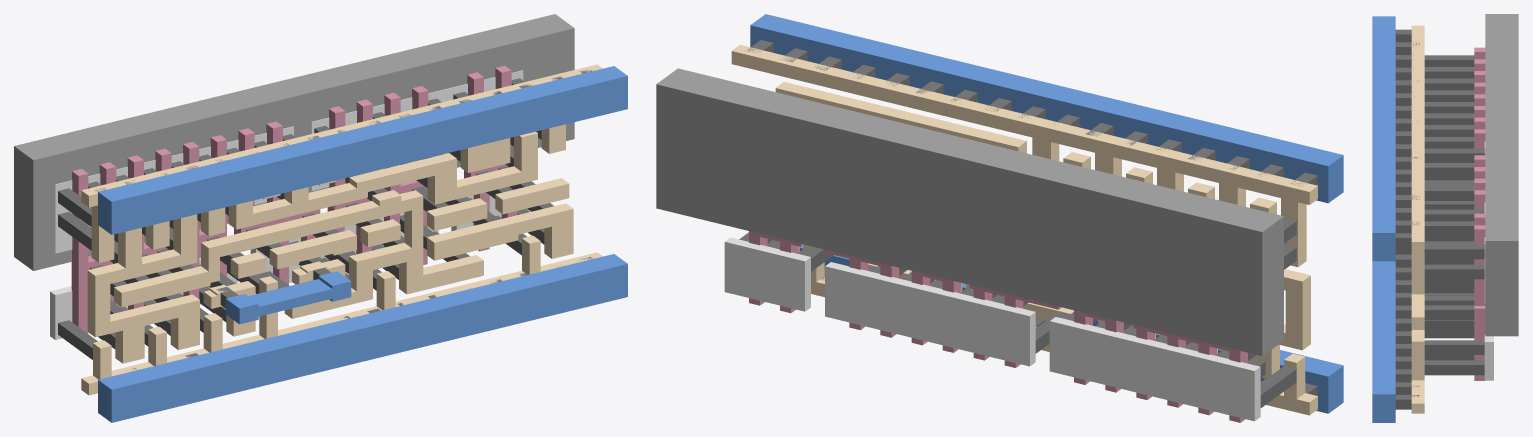
Rendered from sky130_fd_sc_hd__a221o_4.gds.gltf.
3 views of the same model, side by side, from view 1: azimuth 30°, elevation 25°; view 2: azimuth 150°, elevation 25°; view 3: azimuth 270°, elevation 25° (orthographic). The views are drawn at different scales.
Parts seen in each view (by area): view 1: sky130_fd_sc_hd__a221o_4_li1, sky130_fd_sc_hd__a221o_4_met1, sky130_fd_sc_hd__a221o_4_nwell, sky130_fd_sc_hd__a221o_4_poly, sky130_fd_sc_hd__a221o_4_licon, sky130_fd_sc_hd__a221o_4_diff, sky130_fd_sc_hd__a221o_4_mcon; view 2: sky130_fd_sc_hd__a221o_4_nwell, sky130_fd_sc_hd__a221o_4_diff, sky130_fd_sc_hd__a221o_4_li1, sky130_fd_sc_hd__a221o_4_met1, sky130_fd_sc_hd__a221o_4_poly, sky130_fd_sc_hd__a221o_4_mcon, sky130_fd_sc_hd__a221o_4_licon; view 3: sky130_fd_sc_hd__a221o_4_licon, sky130_fd_sc_hd__a221o_4_nwell, sky130_fd_sc_hd__a221o_4_met1, sky130_fd_sc_hd__a221o_4_mcon, sky130_fd_sc_hd__a221o_4_li1, sky130_fd_sc_hd__a221o_4_poly, sky130_fd_sc_hd__a221o_4_diff.
Boxes of the visible parts, x1=… form: sky130_fd_sc_hd__a221o_4_li1: x1=81, y1=64, x2=602, y2=395; sky130_fd_sc_hd__a221o_4_met1: x1=98, y1=66, x2=627, y2=422; sky130_fd_sc_hd__a221o_4_nwell: x1=14, y1=14, x2=574, y2=270; sky130_fd_sc_hd__a221o_4_poly: x1=71, y1=65, x2=517, y2=333; sky130_fd_sc_hd__a221o_4_licon: x1=58, y1=78, x2=553, y2=359; sky130_fd_sc_hd__a221o_4_diff: x1=50, y1=70, x2=528, y2=339; sky130_fd_sc_hd__a221o_4_mcon: x1=95, y1=70, x2=592, y2=369; sky130_fd_sc_hd__a221o_4_nwell: x1=656, y1=68, x2=1283, y2=356; sky130_fd_sc_hd__a221o_4_diff: x1=724, y1=237, x2=1260, y2=421; sky130_fd_sc_hd__a221o_4_li1: x1=731, y1=44, x2=1317, y2=415; sky130_fd_sc_hd__a221o_4_met1: x1=750, y1=14, x2=1343, y2=413; sky130_fd_sc_hd__a221o_4_poly: x1=749, y1=231, x2=1247, y2=422; sky130_fd_sc_hd__a221o_4_mcon: x1=746, y1=40, x2=1317, y2=395; sky130_fd_sc_hd__a221o_4_licon: x1=739, y1=218, x2=1296, y2=407; sky130_fd_sc_hd__a221o_4_licon: x1=1424, y1=55, x2=1484, y2=375; sky130_fd_sc_hd__a221o_4_nwell: x1=1485, y1=14, x2=1518, y2=336; sky130_fd_sc_hd__a221o_4_met1: x1=1372, y1=16, x2=1395, y2=422; sky130_fd_sc_hd__a221o_4_mcon: x1=1395, y1=29, x2=1419, y2=409; sky130_fd_sc_hd__a221o_4_li1: x1=1411, y1=25, x2=1424, y2=413; sky130_fd_sc_hd__a221o_4_poly: x1=1474, y1=47, x2=1485, y2=380; sky130_fd_sc_hd__a221o_4_diff: x1=1484, y1=141, x2=1493, y2=380.
Size of the model in its own units: 8.2 by 3.2 by 2.24.
